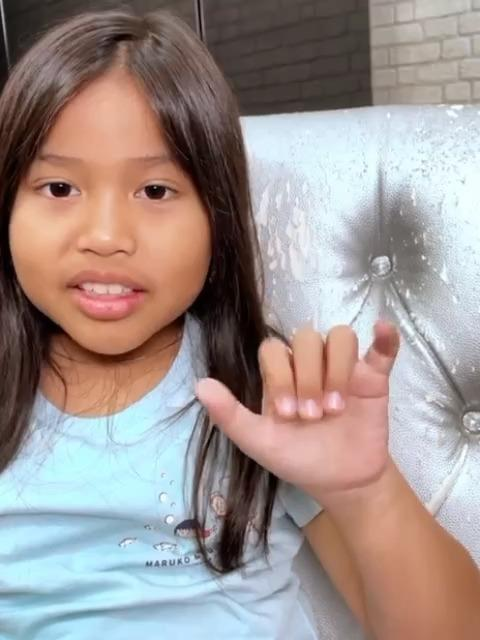Y: (192, 313, 408, 491)
